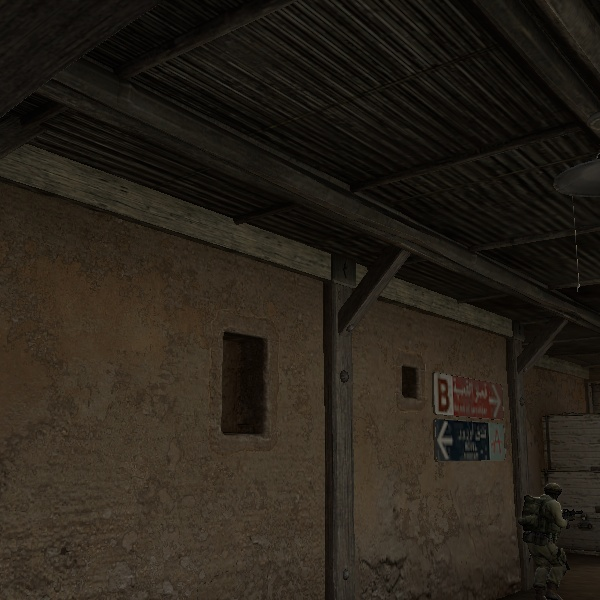ct_body: (519, 481, 569, 597)
ct_head: (544, 482, 563, 500)
